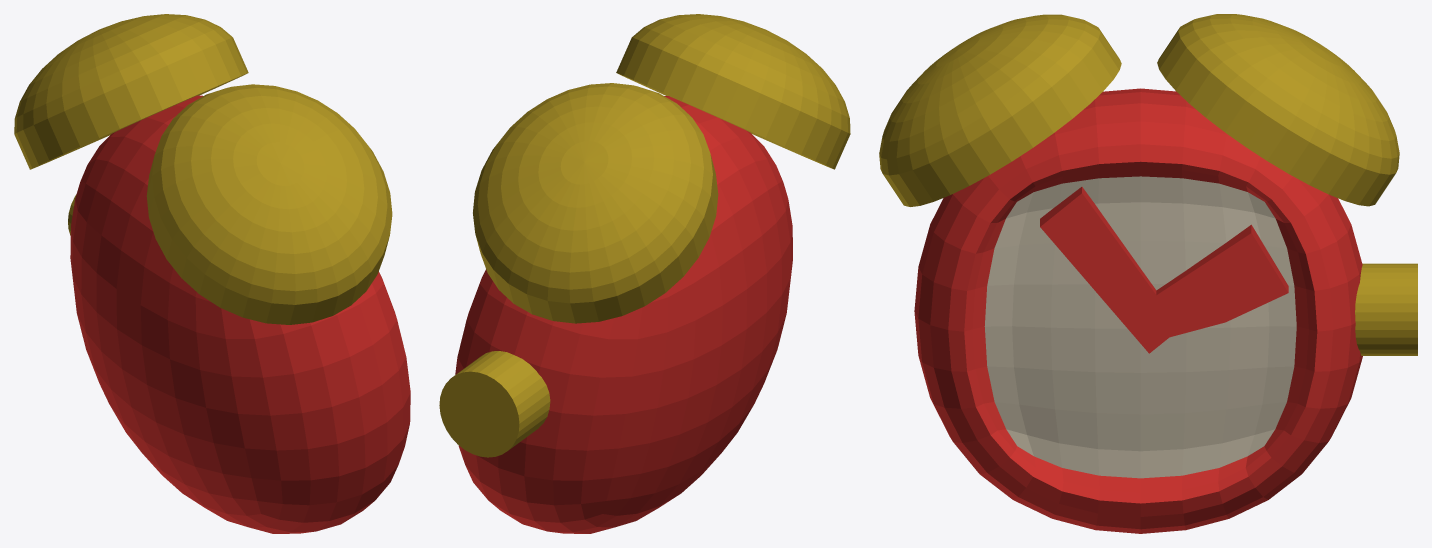
Rendered from clock.fbx.
3 renders of one model, left to right at view 1: azimuth 30°, elevation 25°; view 2: azimuth 150°, elevation 25°; view 3: azimuth 270°, elevation 25°, orthographic.
Parts seen in each view (by area): view 1: Cube, Sphere, Sphere.001; view 2: Cube, Sphere.001, Sphere, Cylinder; view 3: Cube, Sphere, Sphere.001, Cube.001, Cube.002, Cylinder.
Boxes of the visible parts, x1,y1,x2,y2 form: Cube: (70,95,410,533); Sphere: (146,84,392,324); Sphere.001: (14,14,248,169); Cube: (455,96,792,533); Sphere.001: (473,83,718,323); Sphere: (616,14,850,169); Cylinder: (439,351,550,457); Cube: (914,88,1362,533); Sphere: (879,14,1121,206); Sphere.001: (1157,14,1399,206); Cube.001: (1040,187,1180,353); Cube.002: (1138,224,1288,339); Cylinder: (1355,263,1417,355).
Bounding box in the file's own units: 101 × 181 × 189.
